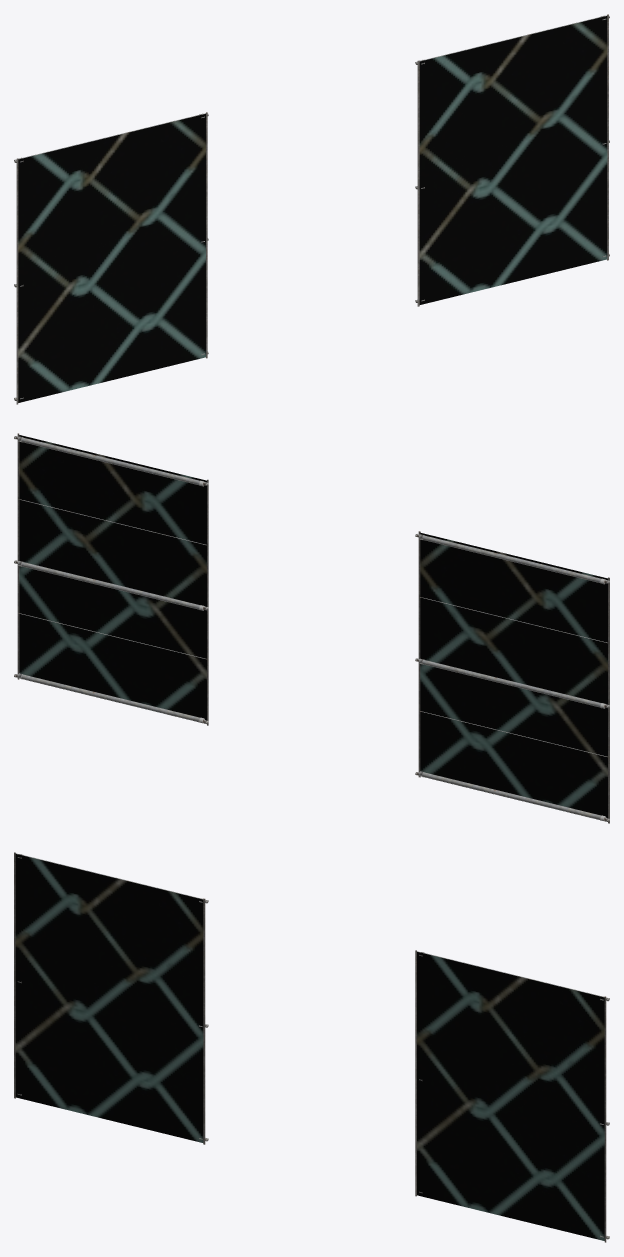
File: SM_PH_cit.fbx
3 renders of one model, top to bottom at view 1: azimuth 30°, elevation 25°; view 2: azimuth 150°, elevation 25°; view 3: azimuth 330°, elevation 25°, orthographic.
Parts seen in each view (by area): view 1: SM_PH_cit; view 2: SM_PH_cit; view 3: SM_PH_cit.
Boxes of the visible parts, bbox=[...] form: SM_PH_cit: bbox=[14, 14, 609, 404]; SM_PH_cit: bbox=[14, 433, 609, 823]; SM_PH_cit: bbox=[14, 852, 609, 1242].
Size of the model in its own units: 6 by 0.0486 by 2.37.
2 materials, 2 textured.
